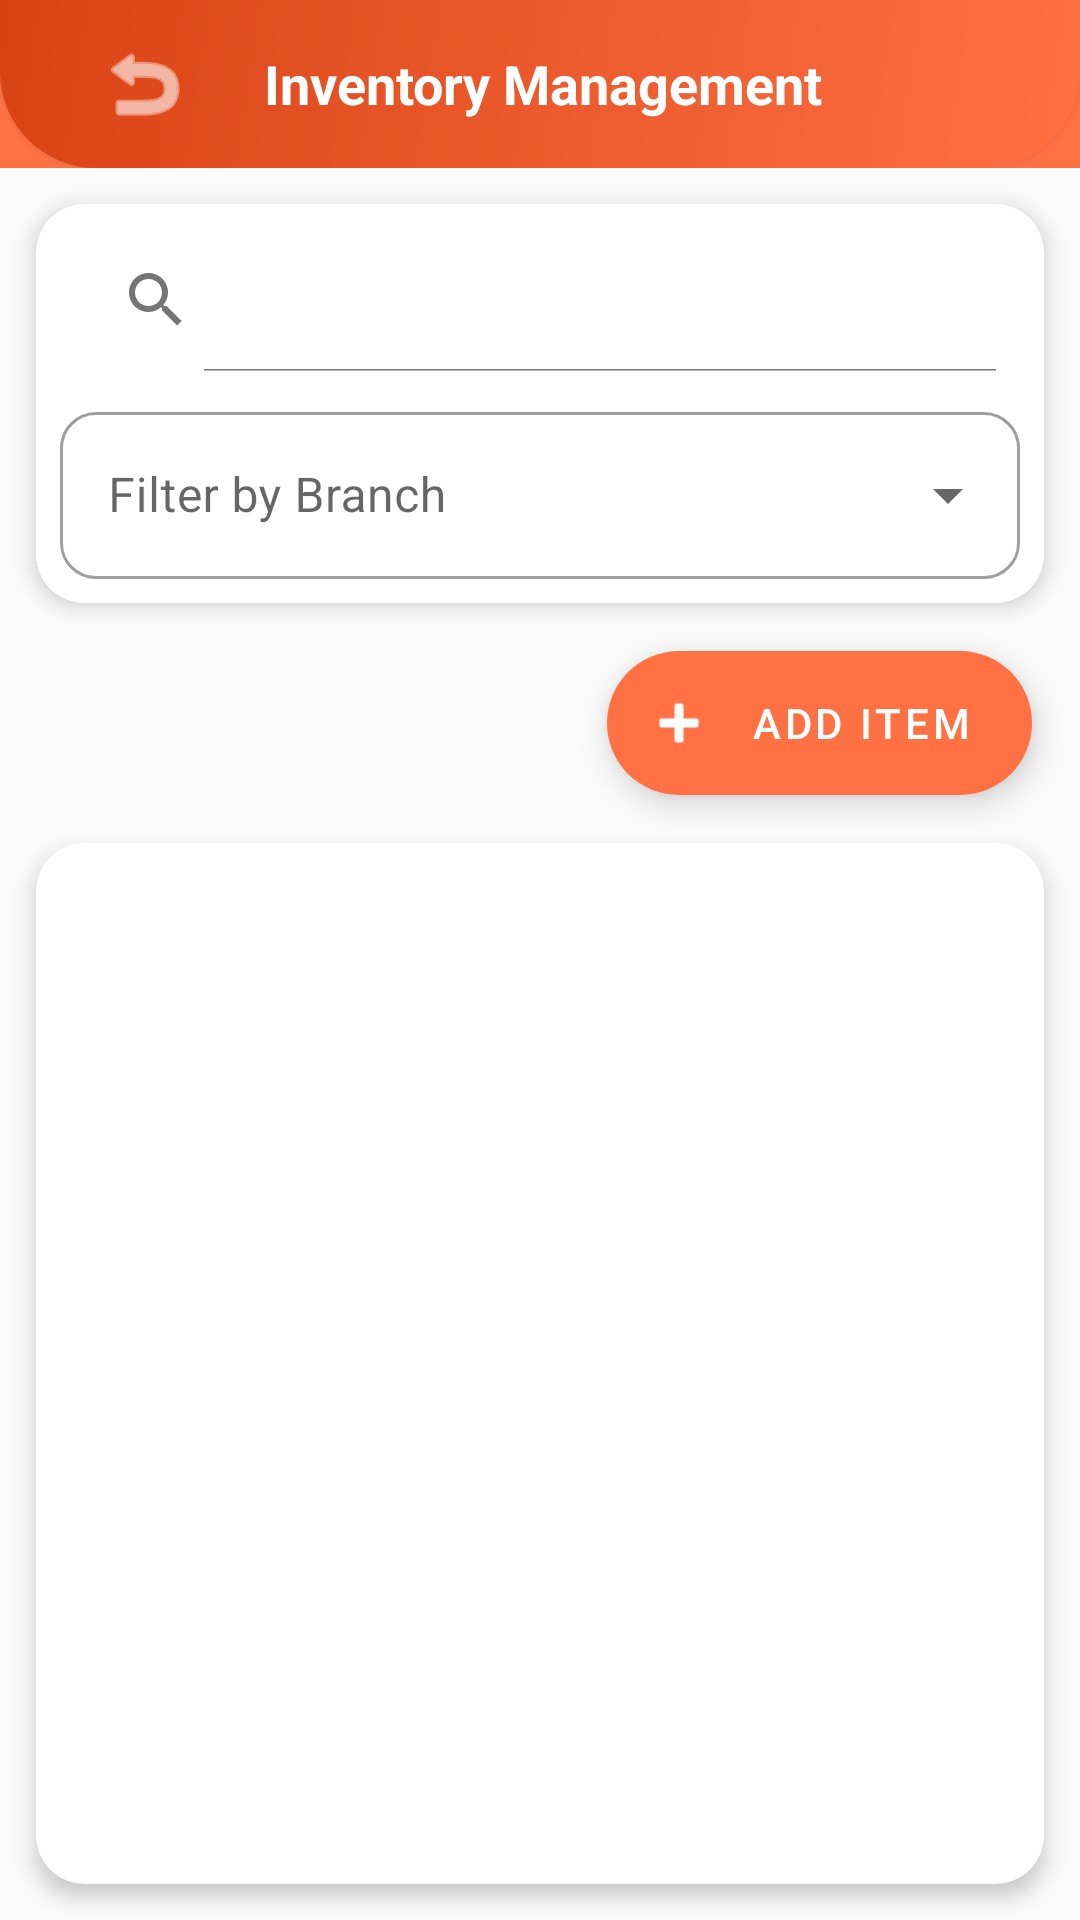

Named icons in this screenshot (1080px x 1920px) and their centers, [x,y]:
Back: [145,84]
